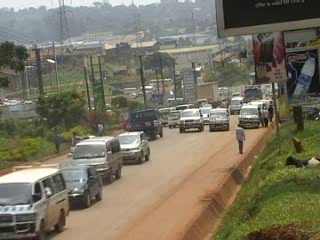Car: (53, 162, 104, 208), (115, 128, 152, 166), (177, 106, 204, 135), (162, 109, 186, 129), (197, 105, 214, 125)
Motorcycle: (219, 92, 229, 112)
